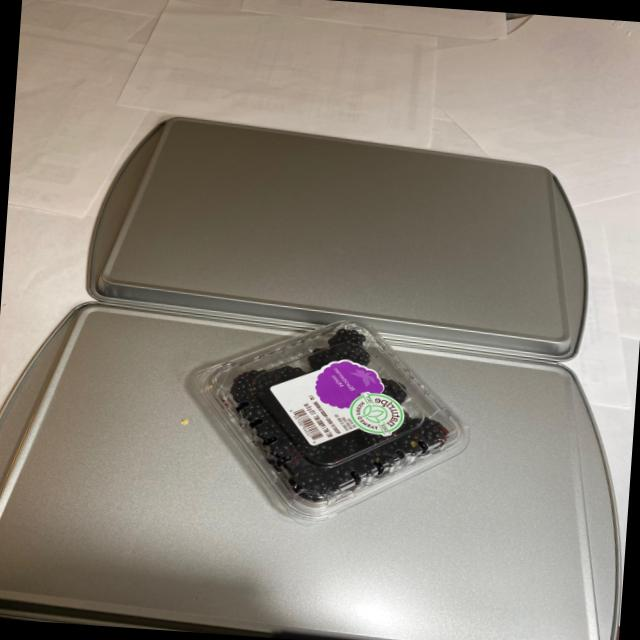blackberries: (202, 304, 453, 510)
